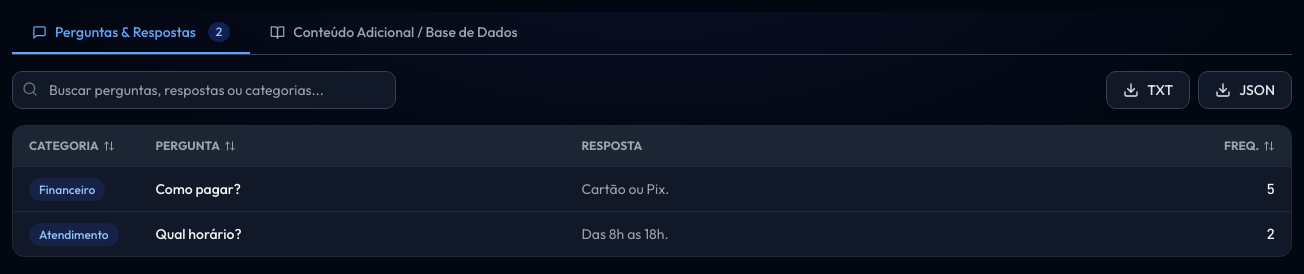
Test: ResultsTable Component › renders results and allows searching
expect the text "Qual horário?" is shown: met, box [140,212,566,256]
expect the text "Como pagar?" is shown: met, box [140,166,566,212]
# Search for 'pagar'
Type "pagar" into the field with placeholder "Buscar perguntas, respostas ou categorias...".
click(204, 90); type("pagar")  # box [12,71,396,109]
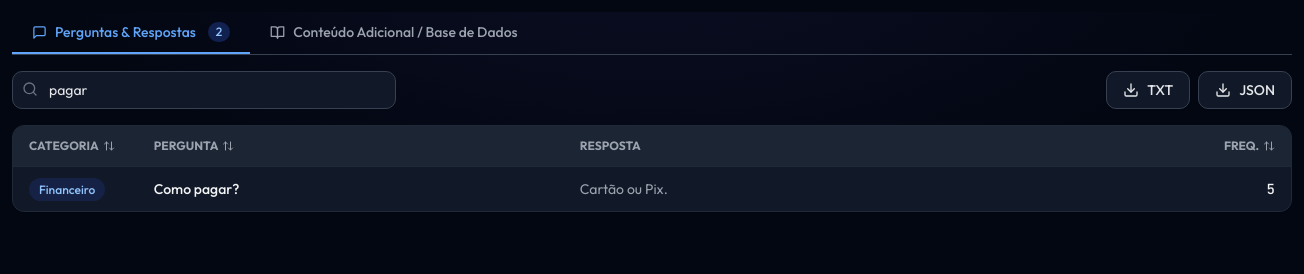
expect the text "Como pagar?" is shown: met, box [138,166,564,211]
expect the text "Qual horário?" is gone: met
